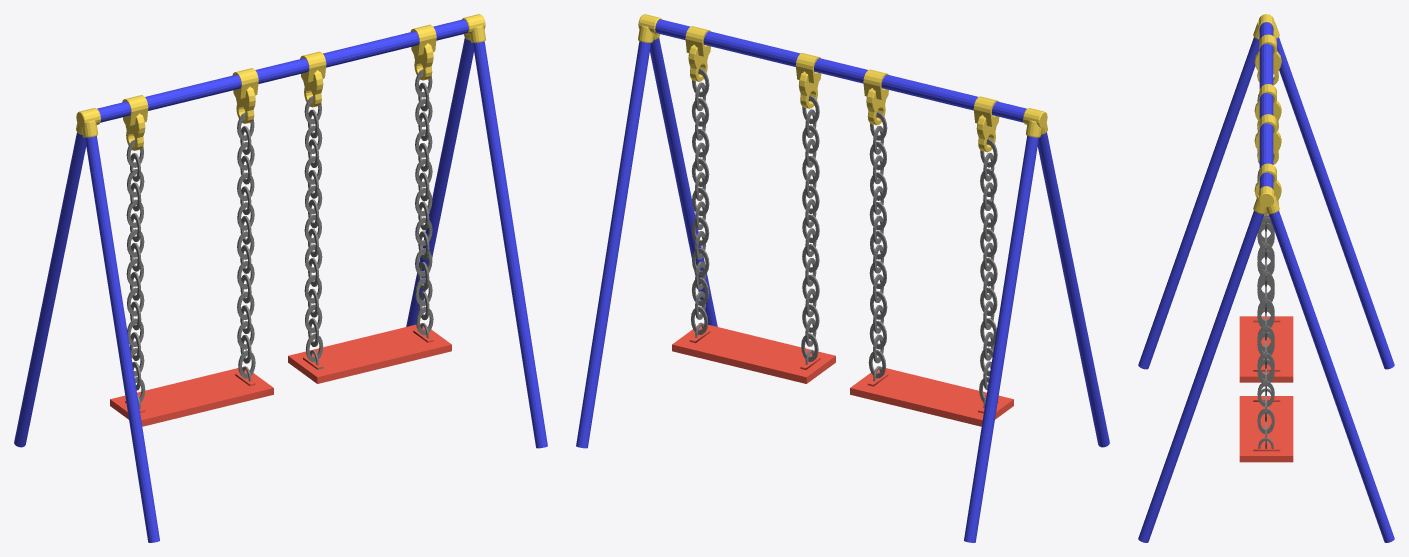
File: swing.obj
3 views of the same model, side by side, from view 1: azimuth 30°, elevation 25°; view 2: azimuth 150°, elevation 25°; view 3: azimuth 270°, elevation 25° (orthographic). The views are drawn at different scales.
Parts seen in each view (by area): view 1: 立方体.001; view 2: 立方体.001; view 3: 立方体.001.
Part boxes in pixels (x1,y1,x2,y2): 立方体.001: (14, 14, 547, 542); 立方体.001: (576, 14, 1109, 542); 立方体.001: (1138, 14, 1394, 542).
Bounding box in the file's own units: 16.19 × 14.8 × 9.78.
